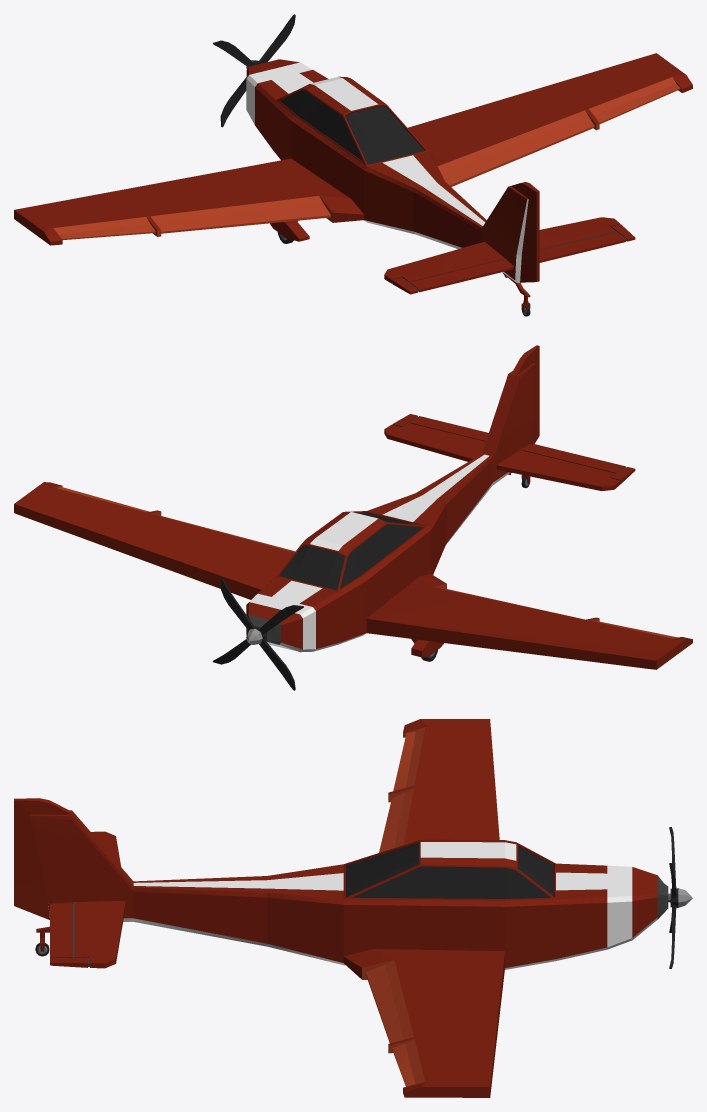
File: Light plane.fbx
3 renders of one model, top to bottom at view 1: azimuth 30°, elevation 25°; view 2: azimuth 150°, elevation 25°; view 3: azimuth 270°, elevation 25°, orthographic. The views are drawn at different scales.
Visible parts, largest first — view 1: LP_Base, LP_Wing_left, LP_Wing_right, LP_Flaps, LP_Propeller; view 2: LP_Base, LP_Wing_left, LP_Wing_right, LP_Flaps, LP_Propeller; view 3: LP_Base, LP_Wing_right, LP_Wing_left, LP_Flaps, LP_Propeller.
Part boxes in pixels (bbox=[...]): LP_Base: bbox=[246, 59, 539, 316]; LP_Wing_left: bbox=[14, 158, 364, 245]; LP_Wing_right: bbox=[408, 53, 692, 186]; LP_Flaps: bbox=[384, 217, 635, 294]; LP_Propeller: bbox=[213, 14, 295, 127]; LP_Base: bbox=[246, 345, 539, 661]; LP_Wing_left: bbox=[366, 574, 692, 669]; LP_Wing_right: bbox=[14, 482, 295, 599]; LP_Flaps: bbox=[384, 414, 635, 490]; LP_Propeller: bbox=[212, 578, 303, 690]; LP_Base: bbox=[14, 798, 668, 969]; LP_Wing_right: bbox=[343, 949, 504, 1097]; LP_Wing_left: bbox=[379, 719, 499, 852]; LP_Flaps: bbox=[50, 831, 125, 968]; LP_Propeller: bbox=[668, 827, 692, 968].
Bounding box in the file's own units: 10.15 × 2.49 × 7.91.
Materials: 1 (1 with a texture image).
